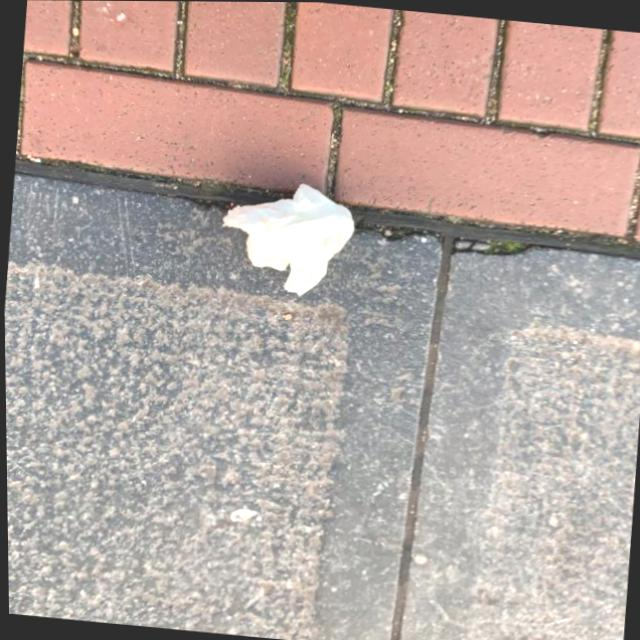Paper: (210, 171, 359, 303)
